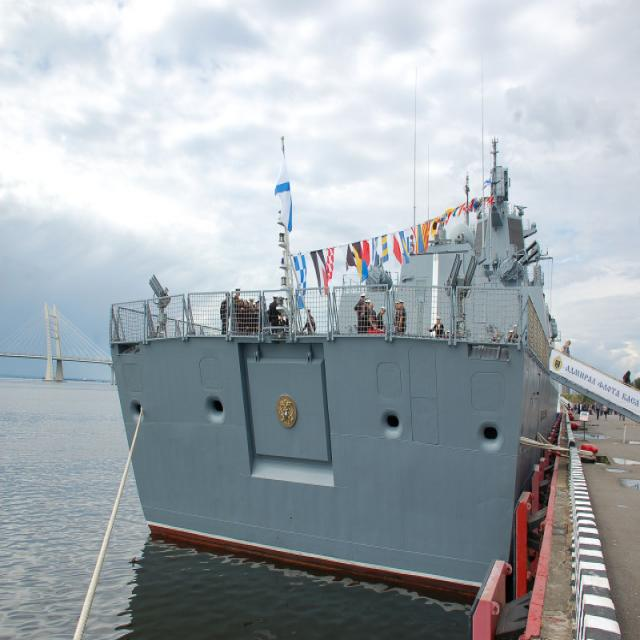Fragata: (109, 129, 560, 606)
